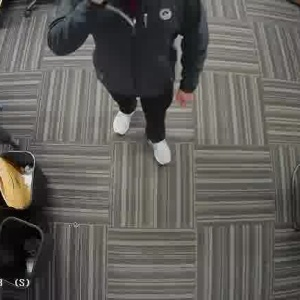person: (79, 0, 205, 154)
